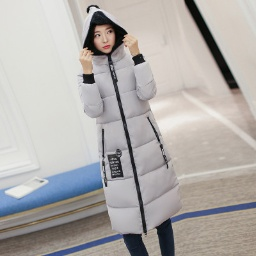face: (82, 19, 126, 55)
